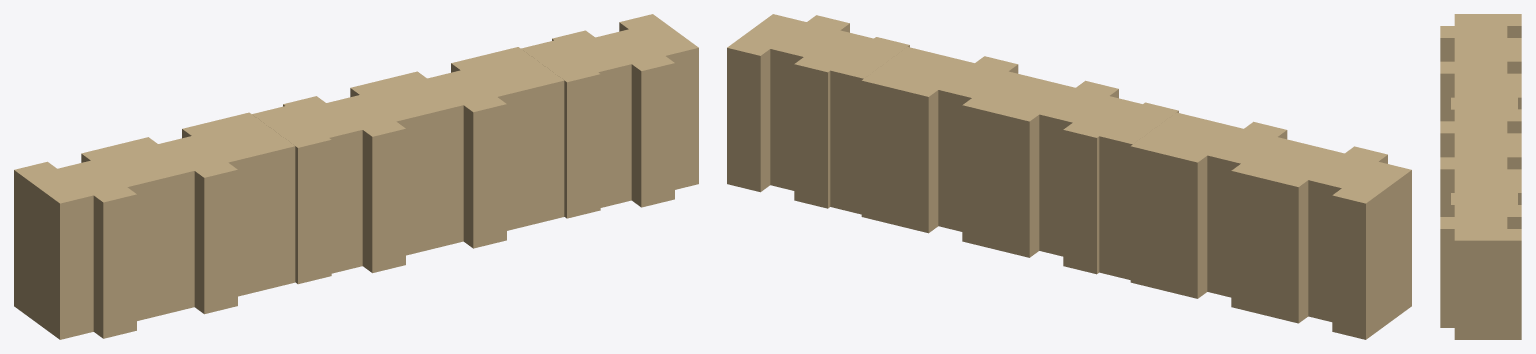
Rendered from Box_Type_2.fbx.
3 views of the same model, side by side, from view 1: azimuth 30°, elevation 25°; view 2: azimuth 150°, elevation 25°; view 3: azimuth 270°, elevation 25° (orthographic). The views are drawn at different scales.
Parts seen in each view (by area): view 1: Box_Type_2; view 2: Box_Type_2; view 3: Box_Type_2.
Part boxes in pixels (x1,y1,x2,y2): Box_Type_2: [14, 14, 698, 339]; Box_Type_2: [727, 14, 1411, 339]; Box_Type_2: [1440, 14, 1521, 339].
Bounding box in the file's own units: 76 × 15.5 × 11.5.
